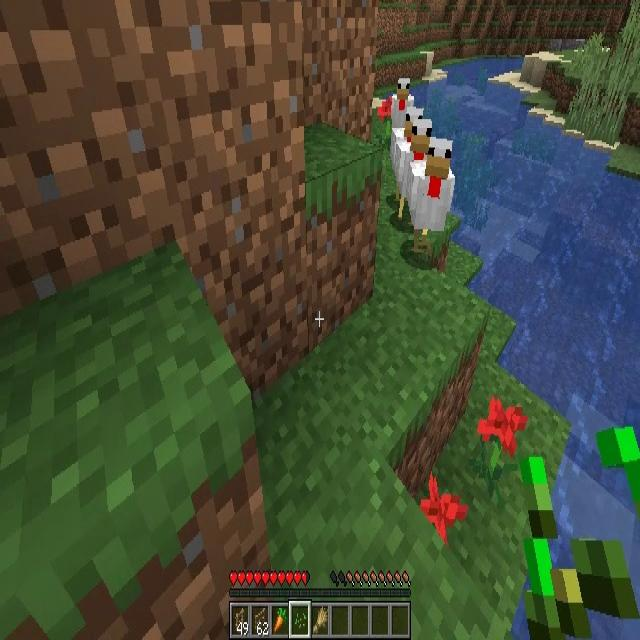duck: (407, 141, 454, 253), (394, 112, 433, 214), (385, 80, 422, 124)
